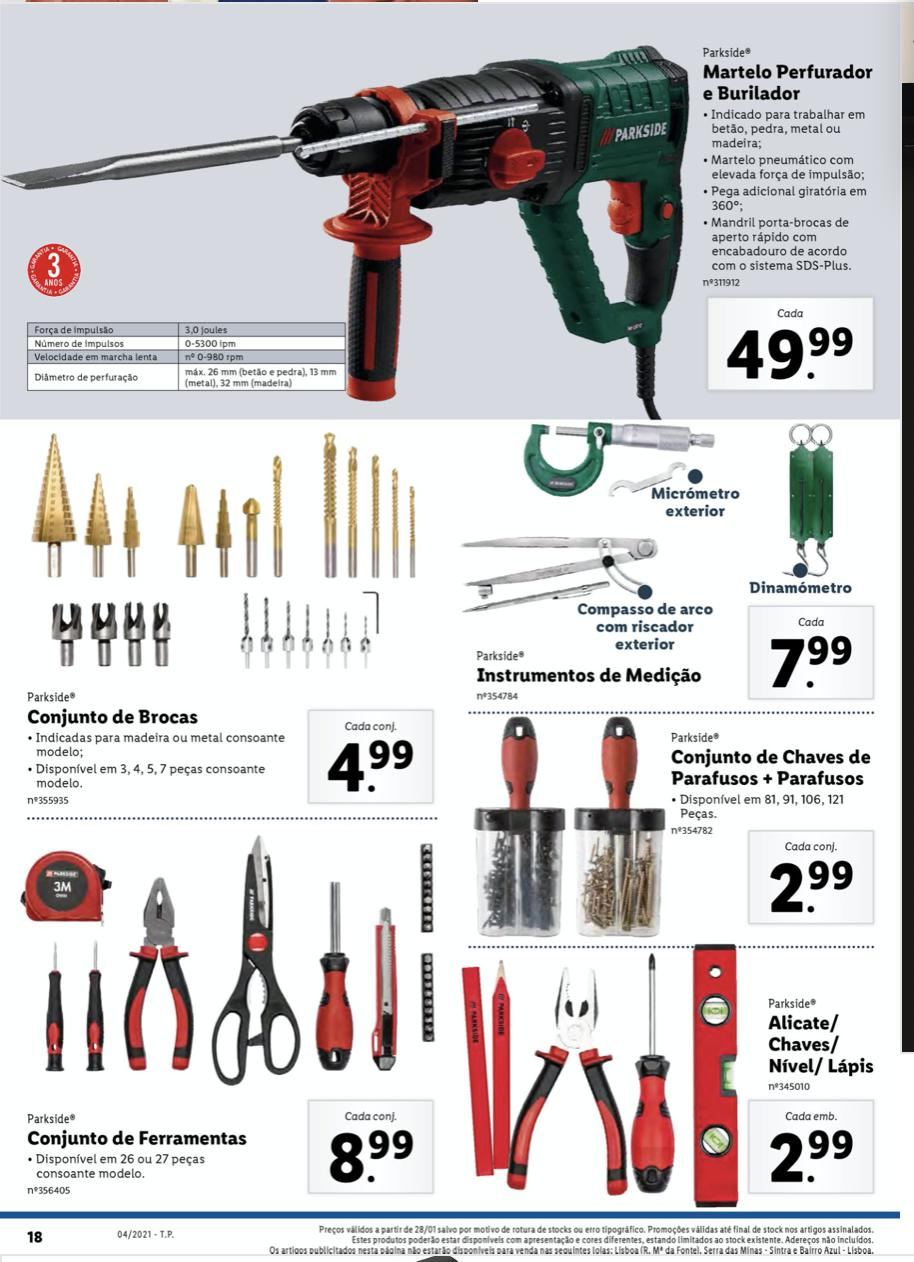name: (666, 742, 877, 794), (757, 1008, 880, 1082), (699, 58, 878, 105), (474, 661, 707, 692), (22, 1128, 255, 1157), (27, 703, 202, 733)
price: (725, 322, 861, 385), (763, 1124, 858, 1191), (325, 1127, 422, 1191), (767, 855, 858, 921), (767, 633, 858, 696), (328, 738, 417, 802)
product: (1, 35, 891, 414), (3, 427, 436, 816), (10, 832, 453, 1197), (458, 405, 889, 707), (453, 955, 886, 1197), (472, 719, 886, 938)
